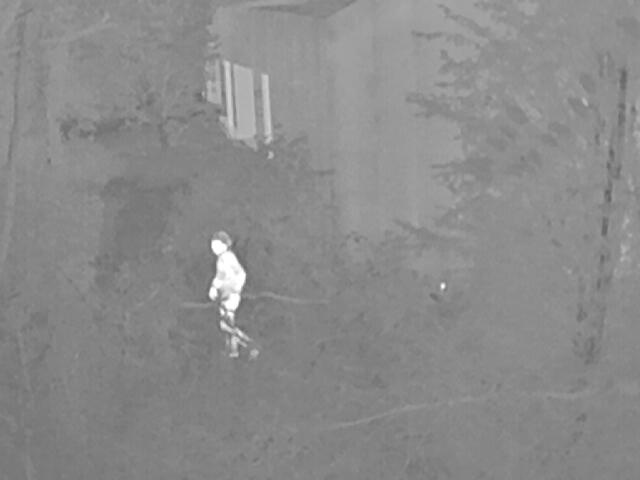person: (207, 230, 257, 359)
